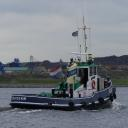tugboat: (9, 52, 118, 114)
